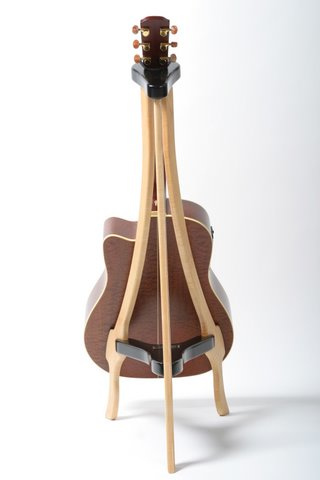guitar: (81, 12, 236, 382)
